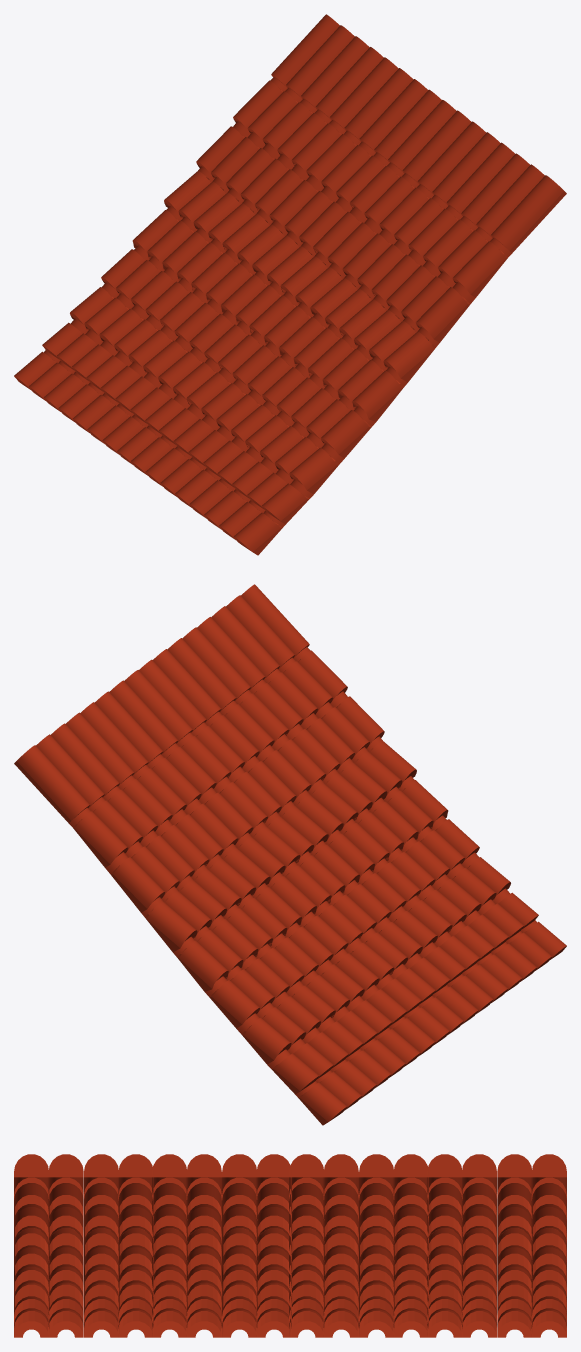
Rendered from RoofStraight.fbx.
3 renders of one model, top to bottom at view 1: azimuth 30°, elevation 25°; view 2: azimuth 150°, elevation 25°; view 3: azimuth 270°, elevation 25°, orthographic. The views are drawn at different scales.
Visible parts, largest first — view 1: Roof_Side_Curved_With_Variation001; view 2: Roof_Side_Curved_With_Variation001; view 3: Roof_Side_Curved_With_Variation001.
Part boxes in pixels (box(x1,y1,x2,y2)): Roof_Side_Curved_With_Variation001: box(14, 14, 566, 555); Roof_Side_Curved_With_Variation001: box(14, 584, 566, 1125); Roof_Side_Curved_With_Variation001: box(14, 1154, 566, 1337).
Bounding box in the file's own units: 92.93 × 82.68 × 117.
